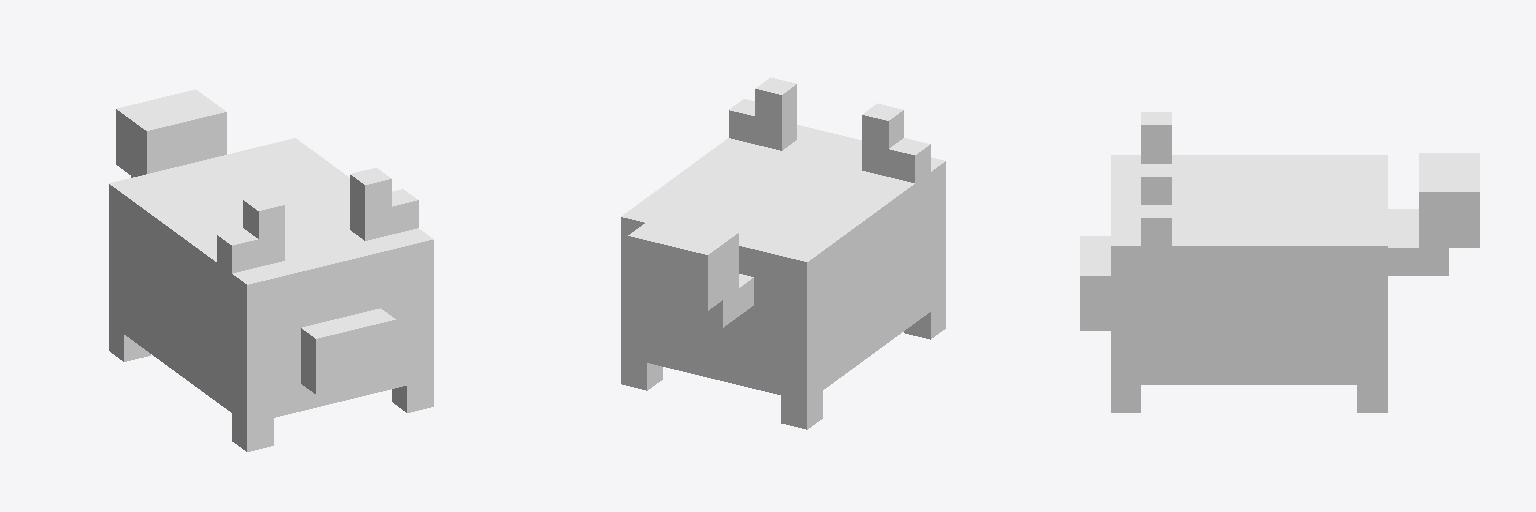
Rendered from racoon.obj.
3 views of the same model, side by side, from view 1: azimuth 30°, elevation 25°; view 2: azimuth 150°, elevation 25°; view 3: azimuth 270°, elevation 25° (orthographic).
Parts seen in each view (by area): view 1: object 1; view 2: object 1; view 3: object 1.
Boxes of the visible parts, box(x1,y1,x2,y2) form: object 1: box(109, 89, 433, 451); object 1: box(621, 77, 945, 429); object 1: box(1080, 112, 1479, 412).
Bounding box in the file's own units: 0.7 × 0.8 × 1.3.